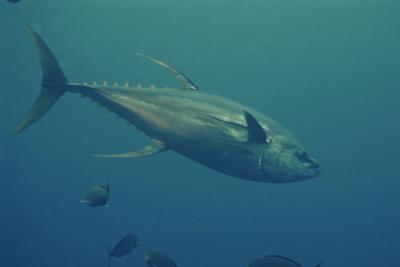Scombridae -Tunas-: (4, 18, 324, 185)
